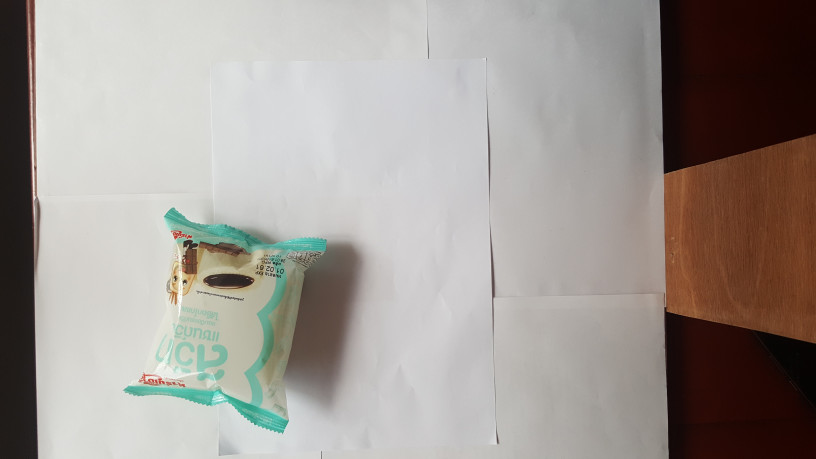farmhouse-sweetsandwich-chocolate: (121, 202, 330, 437)
